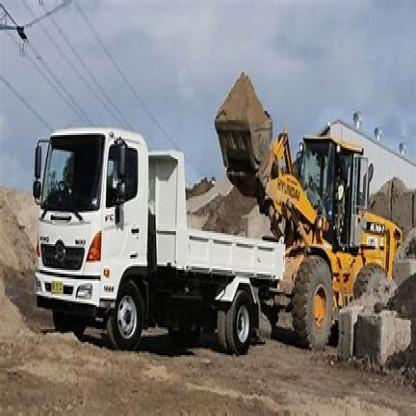dump_truck: (21, 113, 305, 397)
